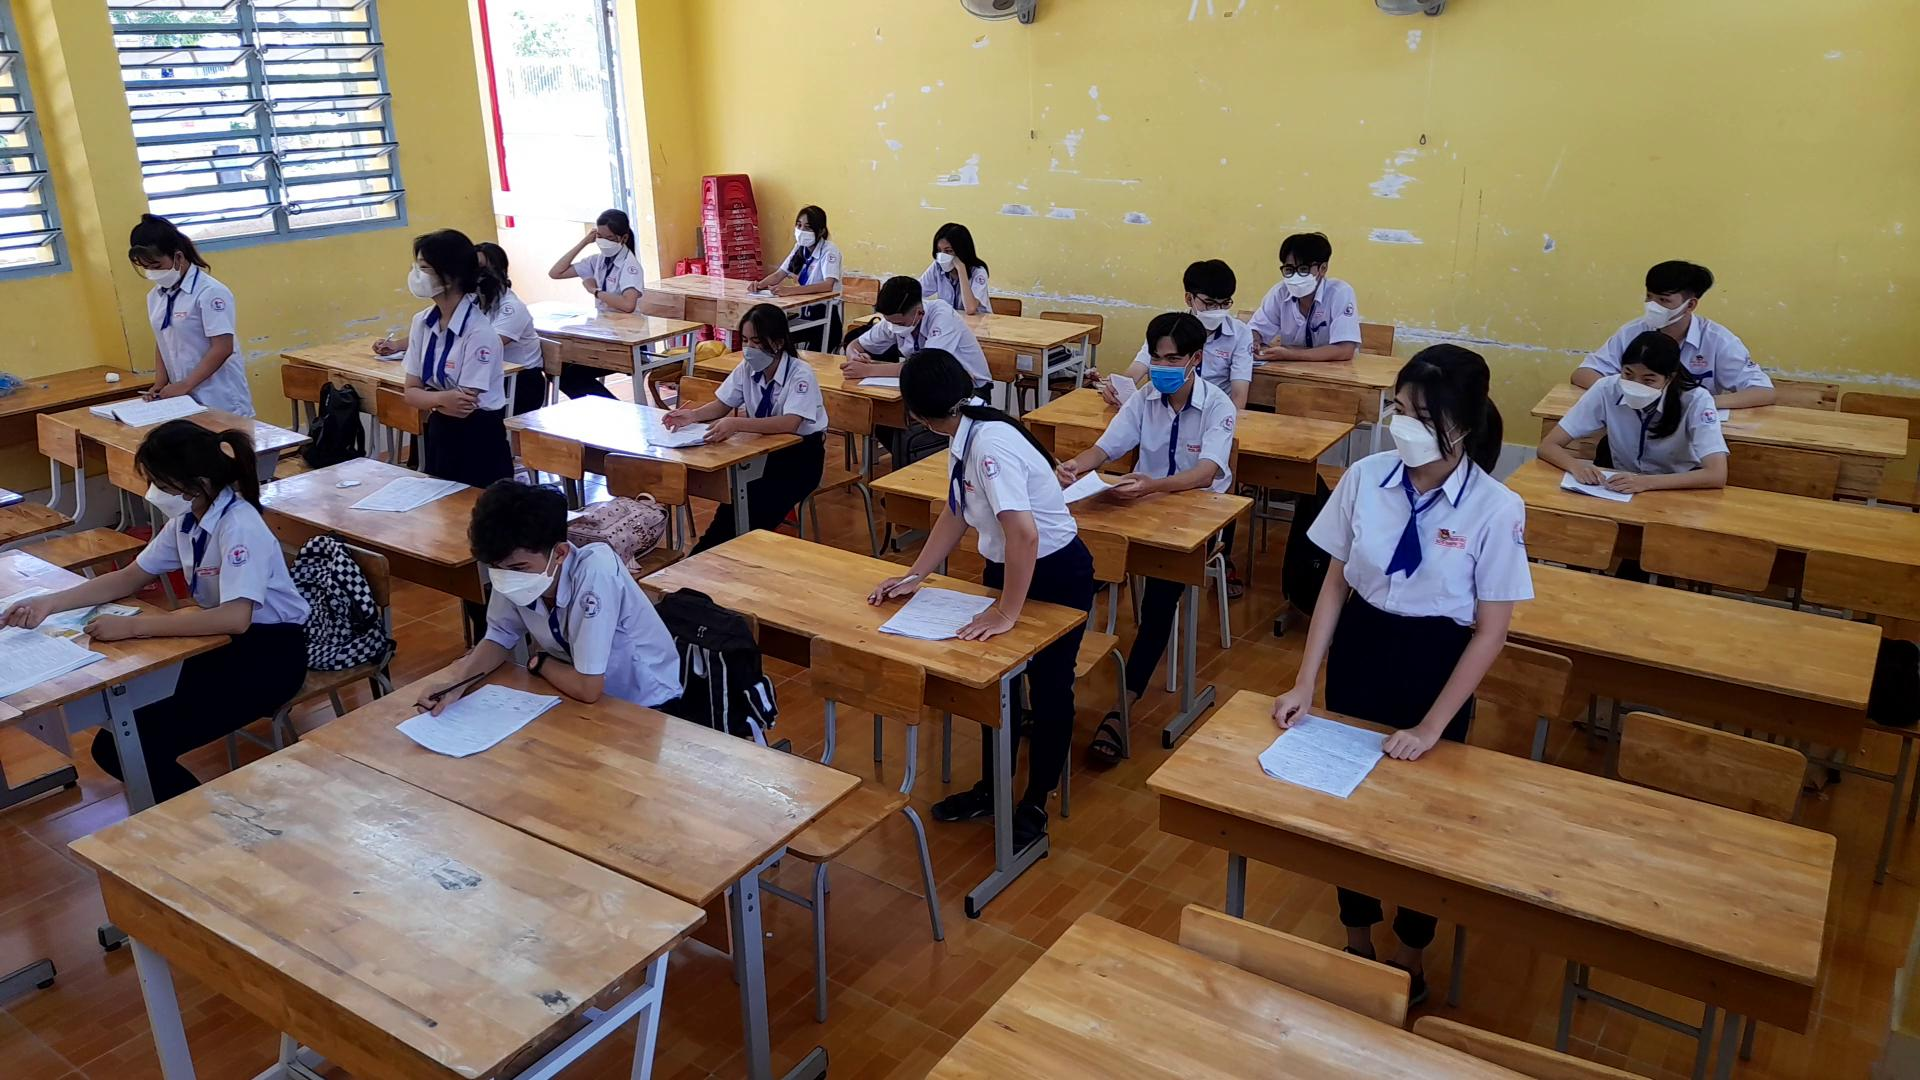Hand Under Table: (1225, 327, 1255, 419)
Normal: (402, 472, 692, 729), (4, 410, 310, 650), (1044, 306, 1244, 506), (1524, 322, 1729, 493), (651, 297, 831, 440), (1253, 220, 1371, 365), (737, 193, 845, 305)
Stand Up: (1265, 328, 1542, 764), (861, 342, 1097, 642), (397, 218, 517, 480), (112, 208, 257, 421)
Wave: (535, 216, 599, 285), (947, 245, 989, 316)
